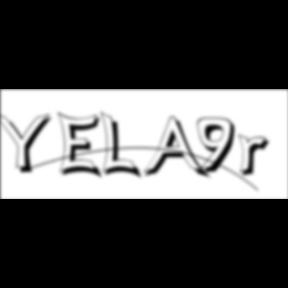9: (198, 117, 242, 177)
A: (144, 116, 212, 182)
E: (57, 110, 106, 182)
L: (100, 110, 144, 182)
Y: (0, 110, 58, 176)
r: (238, 134, 276, 180)
